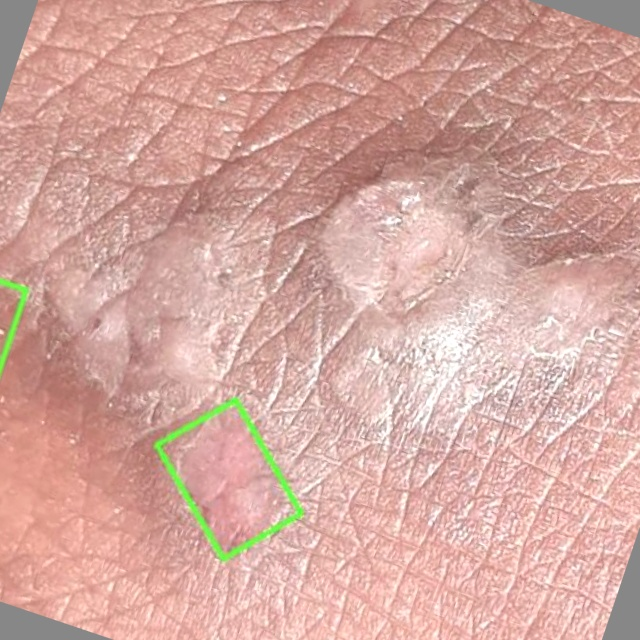Contact Dermatitis: (157, 400, 302, 559)
